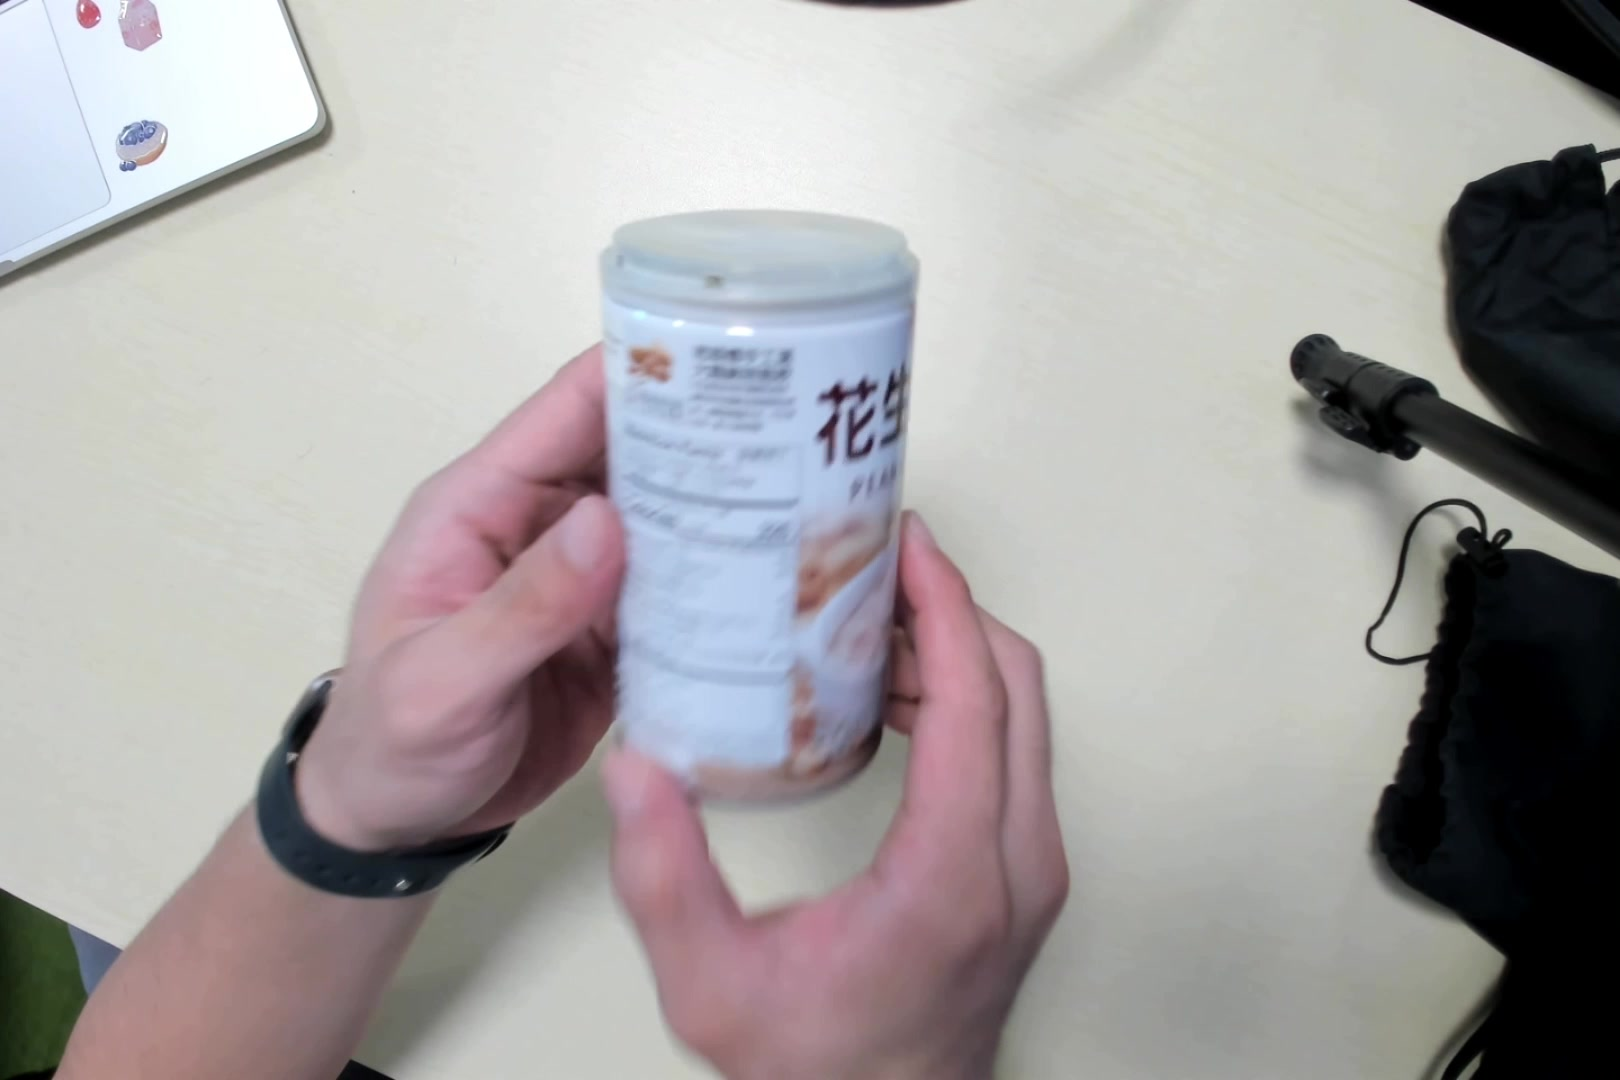InstantMeals_300-399g_NonHalal_NonHealthy: (593, 202, 898, 805)
